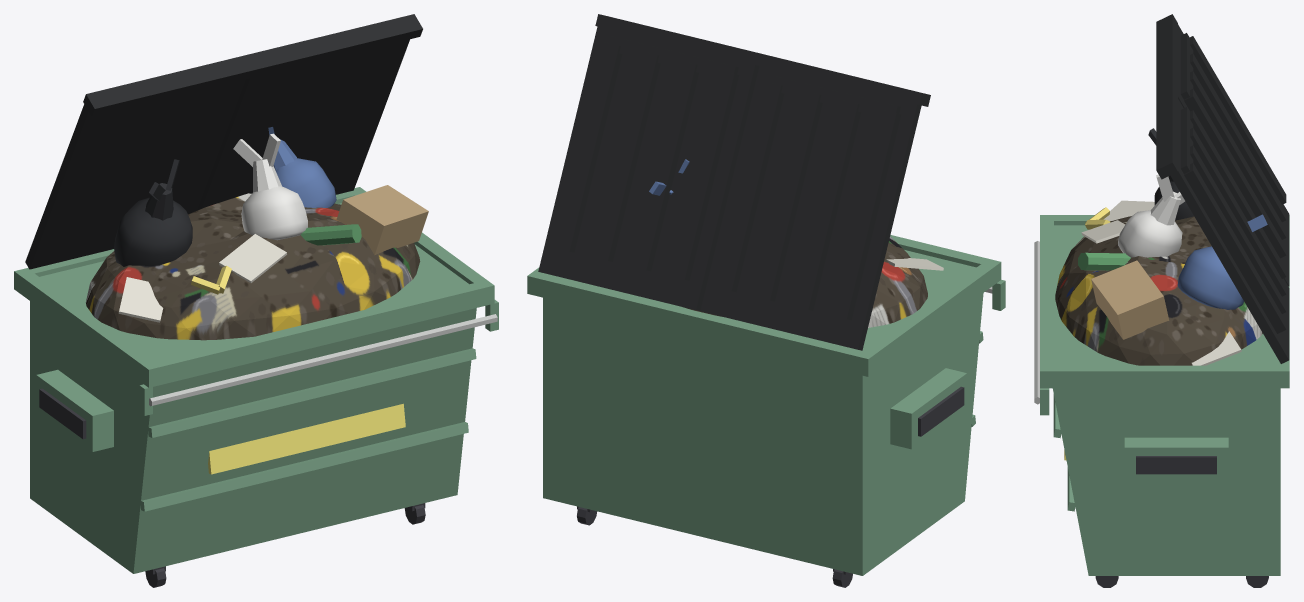
The model's file is trash_bin_open.glb.
3 views of the same model, side by side, from view 1: azimuth 30°, elevation 25°; view 2: azimuth 150°, elevation 25°; view 3: azimuth 270°, elevation 25° (orthographic). The views are drawn at different scales.
Visible parts, largest first — view 1: TrashBinOpen; view 2: TrashBinOpen; view 3: TrashBinOpen.
Boxes of the visible parts, bbox=[...] form: TrashBinOpen: bbox=[14, 14, 498, 587]; TrashBinOpen: bbox=[527, 14, 1005, 587]; TrashBinOpen: bbox=[1034, 14, 1289, 587].
Bounding box in the file's own units: 1.73 × 2.1 × 1.11.
Materials: 13 (1 with a texture image).
